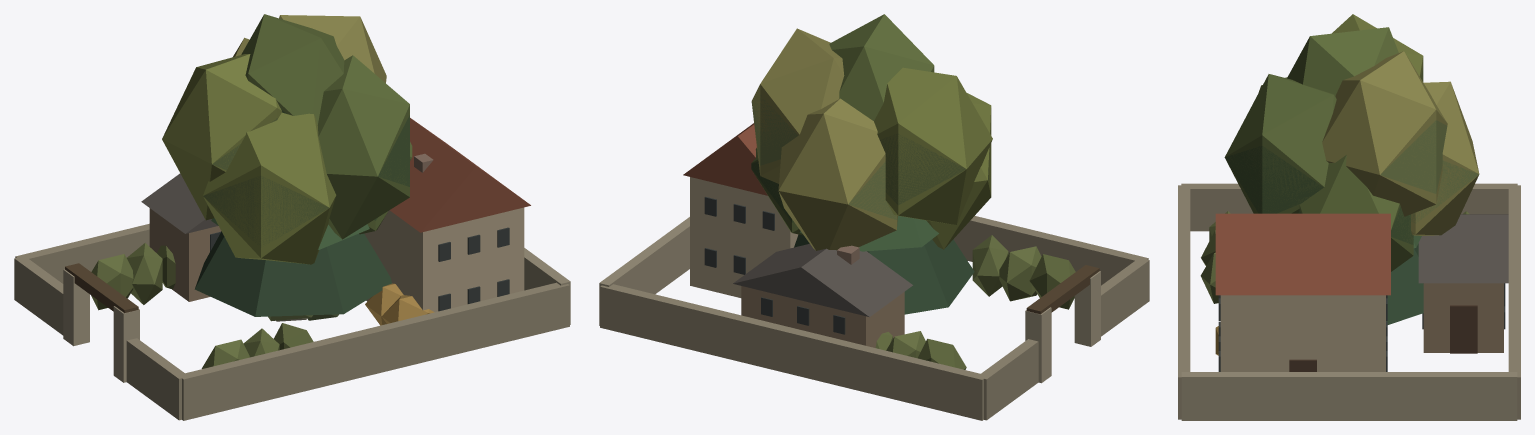
The model's file is battlefield.glb.
3 views of the same model, side by side, from view 1: azimuth 30°, elevation 25°; view 2: azimuth 150°, elevation 25°; view 3: azimuth 270°, elevation 25° (orthographic). The views are drawn at different scales.
Parts seen in each view (by area): view 1: Farm, Crown1, Crown2, Crown0; view 2: Farm, Crown1, Crown0, Crown2; view 3: Farm, Crown1, Crown0, Crown2.
Part boxes in pixels (left/top/right/bottom): Farm: left=14, top=118, right=570, bottom=420; Crown1: left=162, top=14, right=412, bottom=264; Crown2: left=194, top=218, right=391, bottom=316; Crown0: left=203, top=109, right=410, bottom=247; Farm: left=599, top=123, right=1149, bottom=420; Crown1: left=751, top=14, right=992, bottom=250; Crown0: left=751, top=94, right=989, bottom=222; Crown2: left=794, top=216, right=974, bottom=314; Farm: left=1178, top=183, right=1520, bottom=420; Crown1: left=1224, top=14, right=1479, bottom=271; Crown0: left=1225, top=66, right=1478, bottom=244; Crown2: left=1386, top=235, right=1423, bottom=324.
Size of the model in its own units: 9.56 by 6.78 by 7.05.
